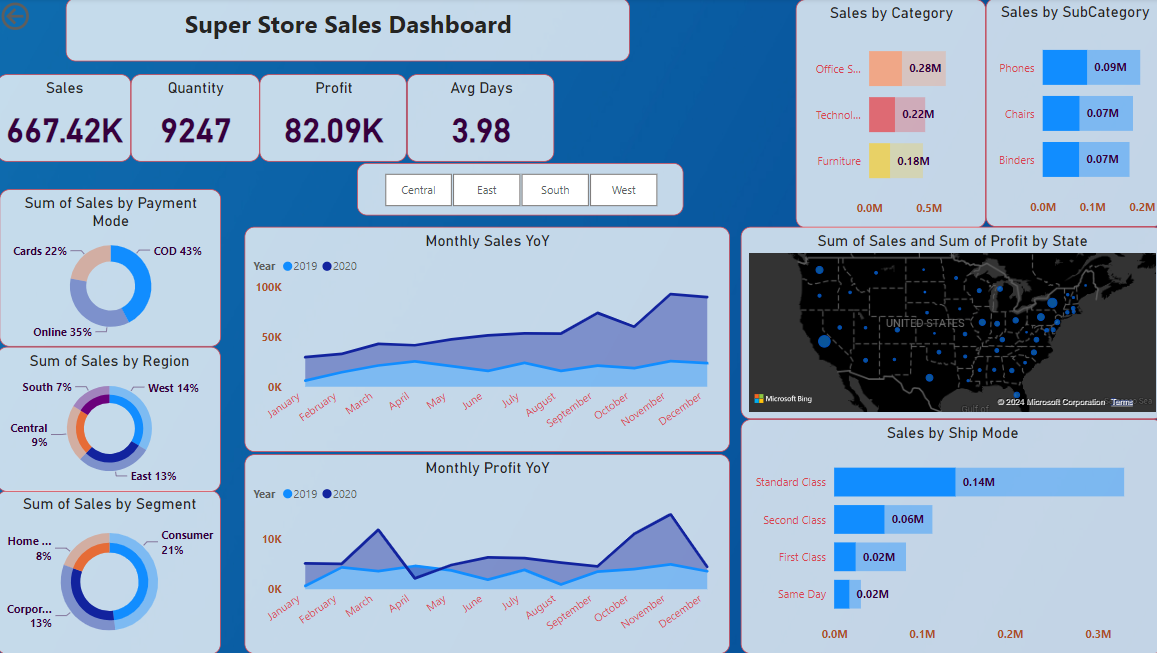

What the dashboard file says about the page in this screenshot:
{"tool":"powerbi","page":{"name":"Page 1","canvas":[1280,720],"ordinal":0},"visuals":[{"type":"actionButton","box":[0,0,100,40],"z":4000},{"type":"barChart","title":" Sales by Category","fields":{"Category":["Sheet1.Category"],"Y":["Sum(Sheet1.Sales)"]},"box":[876.8,1.4,208.6,251.1],"z":4001},{"type":"barChart","title":" Sales by SubCategory","fields":{"Category":["Sheet1.Sub-Category"],"Y":["Sum(Sheet1.Sales)"]},"box":[1085.4,0,194.9,251.1],"z":4002},{"type":"barChart","title":" Sales by Ship Mode","fields":{"Category":["Sheet1.Ship Mode"],"Y":["Sum(Sheet1.Sales)"]},"box":[816.5,462.4,463.8,258],"z":4003},{"type":"stackedAreaChart","title":"Monthly Sales YoY","fields":{"Category":["Sheet1.Order Date.Variation.Date Hierarchy.Month","Sheet1.Order Date.Variation.Date Hierarchy.Day"],"Y":["Sum(Sheet1.Sales)"],"Series":["Sheet1.Order Date.Variation.Date Hierarchy.Year"]},"box":[271.7,251.1,532.4,247],"z":4004},{"type":"stackedAreaChart","title":"Monthly Profit YoY","fields":{"Series":["Sheet1.Order Date.Variation.Date Hierarchy.Year"],"Category":["Sheet1.Order Date.Variation.Date Hierarchy.Month"],"Y":["Sum(Sheet1.Profit)"]},"box":[271.7,500.9,532.4,219.6],"z":4005},{"type":"map","fields":{"Category":["Sheet1.State"],"Size":["Sum(Sheet1.Sales)"]},"box":[816.5,251.1,463.8,211.3],"z":4006},{"type":"donutChart","fields":{"Category":["Sheet1.Segment"],"Y":["Sum(Sheet1.Sales)"]},"box":[0,540.7,245.6,179.8],"z":4007},{"type":"donutChart","fields":{"Category":["Sheet1.Region"],"Y":["Sum(Sheet1.Sales)"]},"box":[0,382.8,245.6,159.2],"z":4008},{"type":"donutChart","fields":{"Category":["Sheet1.Payment Mode"],"Y":["Sum(Sheet1.Sales)"]},"box":[2.7,209.9,242.9,172.9],"z":4009},{"type":"slicer","fields":{"Values":["Sheet1.Region"]},"box":[395.2,181.1,358.1,57.6],"z":4010},{"type":"textbox","box":[75.5,0,618.9,70],"z":4011},{"type":"card","title":"Sales","fields":{"Values":["Sum(Sheet1.Sales)"]},"box":[0,83.7,146.8,96.1],"z":4012},{"type":"card","title":"Quantity","fields":{"Values":["Sum(Sheet1.Quantity)"]},"box":[146.8,83.7,141.3,96.1],"z":4013},{"type":"card","title":"Profit","fields":{"Values":["Sum(Sheet1.Profit)"]},"box":[288.2,83.7,161.9,96.1],"z":4014},{"type":"card","title":"Avg Days","fields":{"Values":["Avg(Sheet1.Avg Delivery)"]},"box":[450.1,83.7,161.9,96.1],"z":4015}]}

Visuals, with their boxes in screenshot pixels (x1, y1, x2, y2), scaled from the page's 1280x720 canvas onto the 1157x653 screenshot:
actionButton: left=0, top=0, right=90, bottom=36
" Sales by Category" barChart: left=793, top=1, right=981, bottom=229
" Sales by SubCategory" barChart: left=981, top=0, right=1156, bottom=228
" Sales by Ship Mode" barChart: left=738, top=419, right=1156, bottom=652
"Monthly Sales YoY" stackedAreaChart: left=246, top=228, right=727, bottom=452
"Monthly Profit YoY" stackedAreaChart: left=246, top=454, right=727, bottom=652
map - Sheet1.State x Sum(Sheet1.Sales): left=738, top=228, right=1156, bottom=419
donutChart - Sheet1.Segment x Sum(Sheet1.Sales): left=0, top=490, right=222, bottom=652
donutChart - Sheet1.Region x Sum(Sheet1.Sales): left=0, top=347, right=222, bottom=492
donutChart - Sheet1.Payment Mode x Sum(Sheet1.Sales): left=2, top=190, right=222, bottom=347
slicer - Sheet1.Region: left=357, top=164, right=681, bottom=216
textbox: left=68, top=0, right=628, bottom=63
"Sales" card: left=0, top=76, right=133, bottom=163
"Quantity" card: left=133, top=76, right=260, bottom=163
"Profit" card: left=261, top=76, right=407, bottom=163
"Avg Days" card: left=407, top=76, right=553, bottom=163
